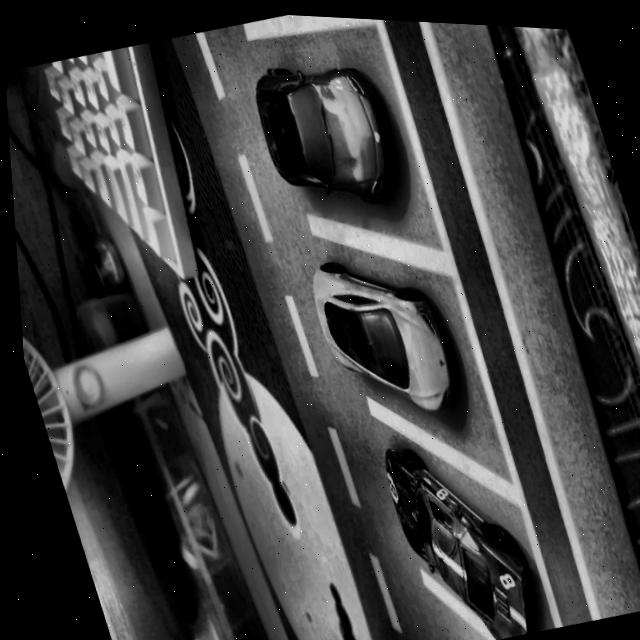car: (368, 420, 538, 640), (296, 235, 461, 432), (241, 39, 411, 222)
